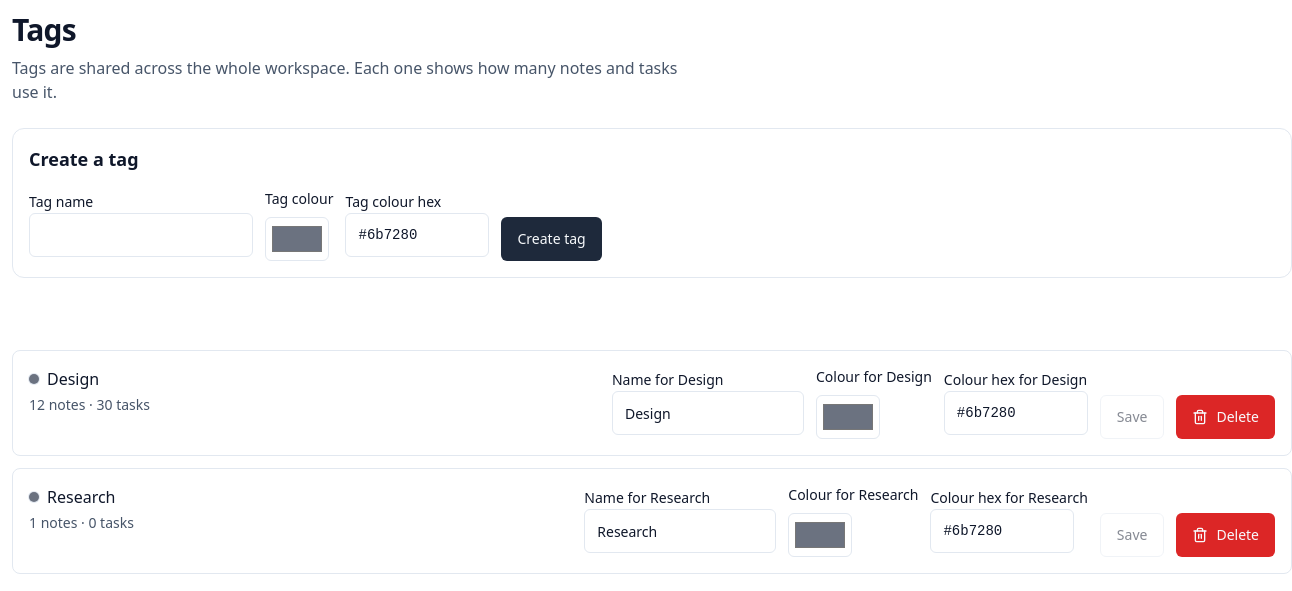
it: TagManager › rolls the list back and announces a duplicate name when creation conflicts
Type "Design" into the field labelled "Tag name". click: (141, 235)
box: [29, 213, 253, 257]
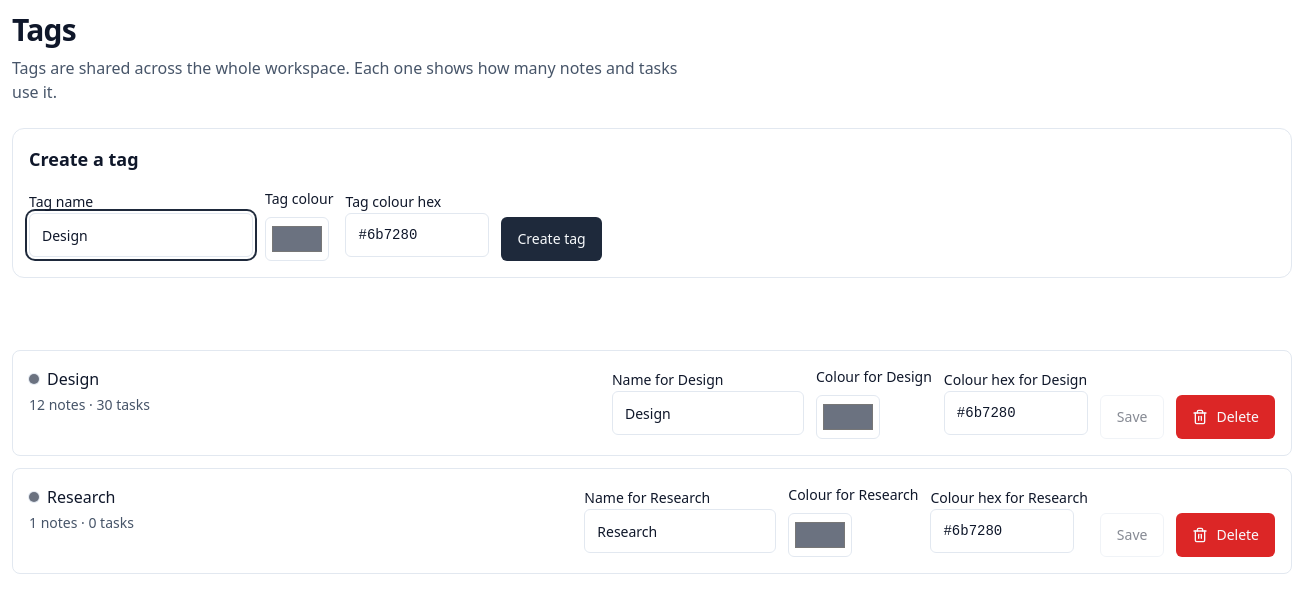
Click the button "Create tag". click: (552, 239)
box: [502, 217, 602, 261]
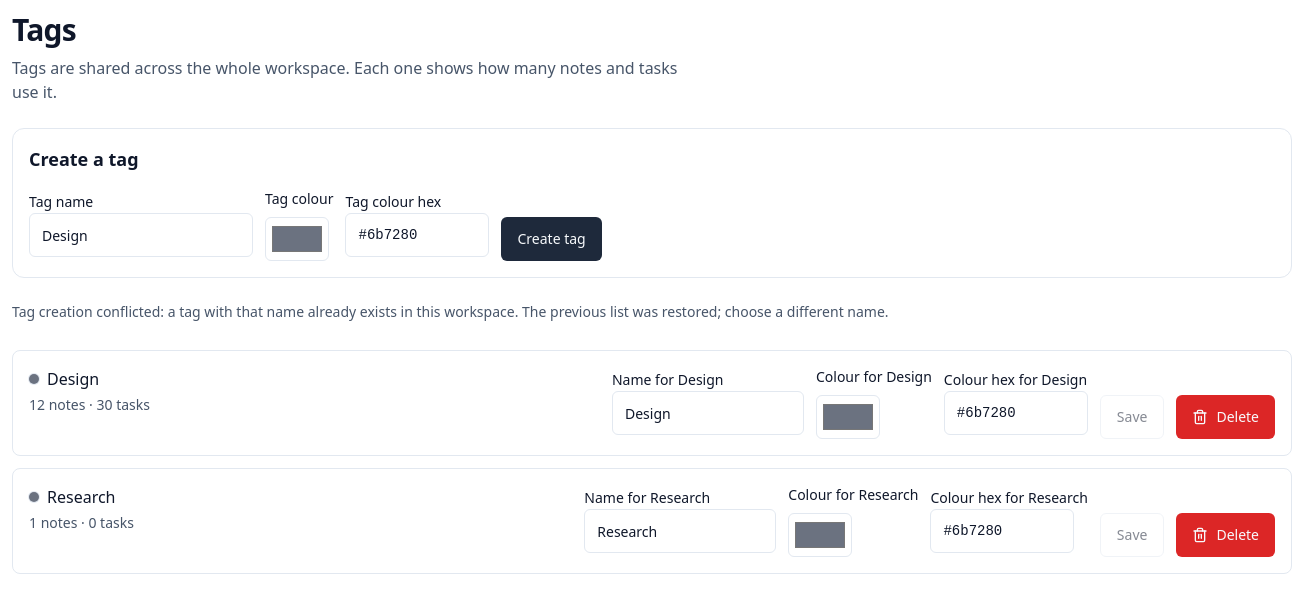
Expected: the number of list items is 2, [12, 350, 1291, 456]; [12, 468, 1291, 574]
Now the message shows "already exists", box [12, 302, 889, 321]
